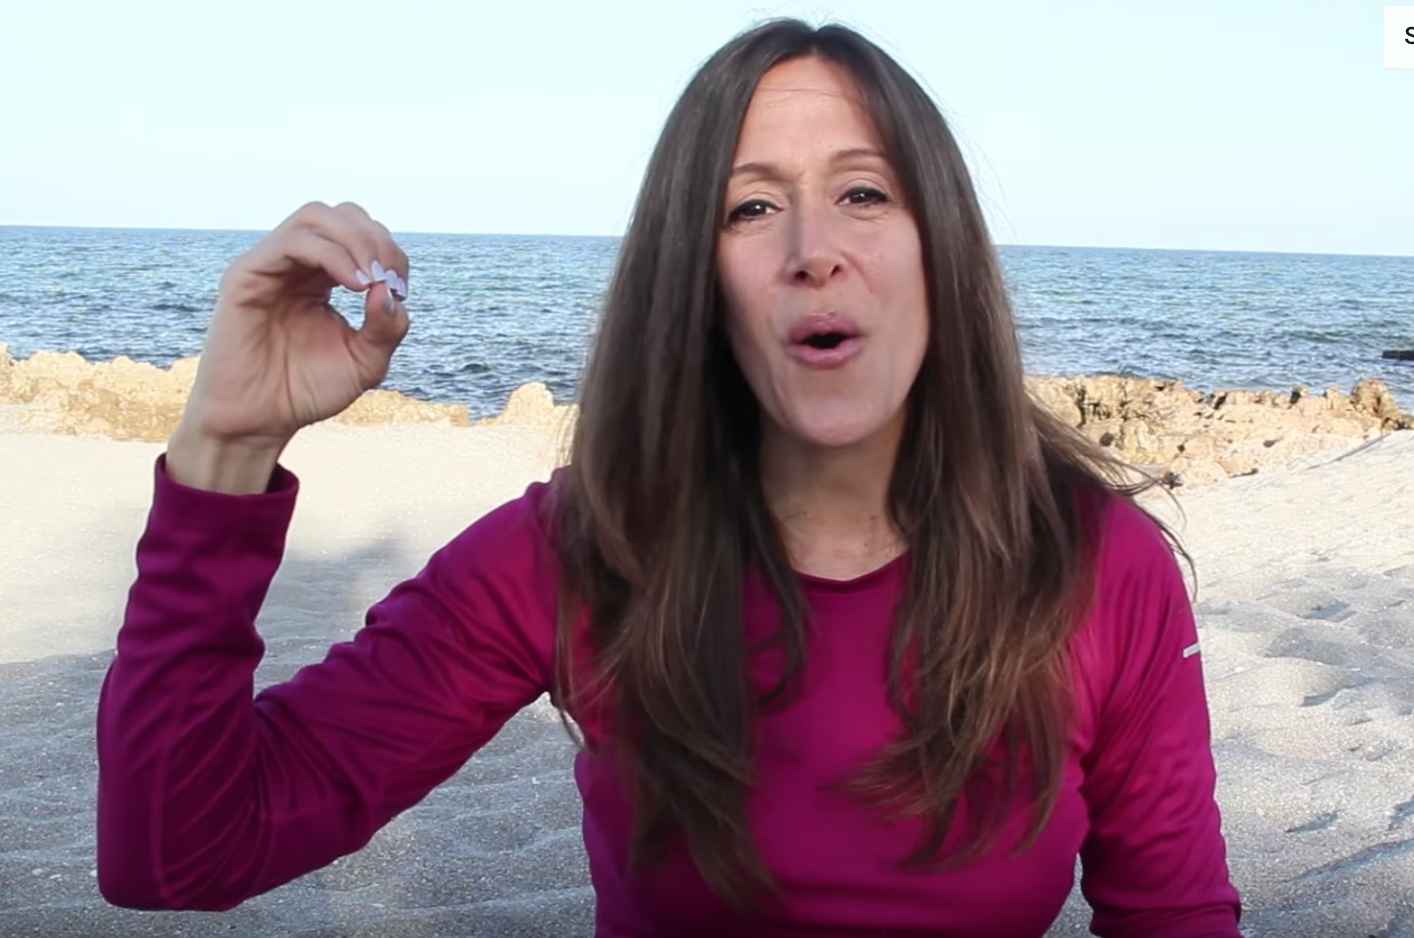o: (163, 186, 430, 573)
